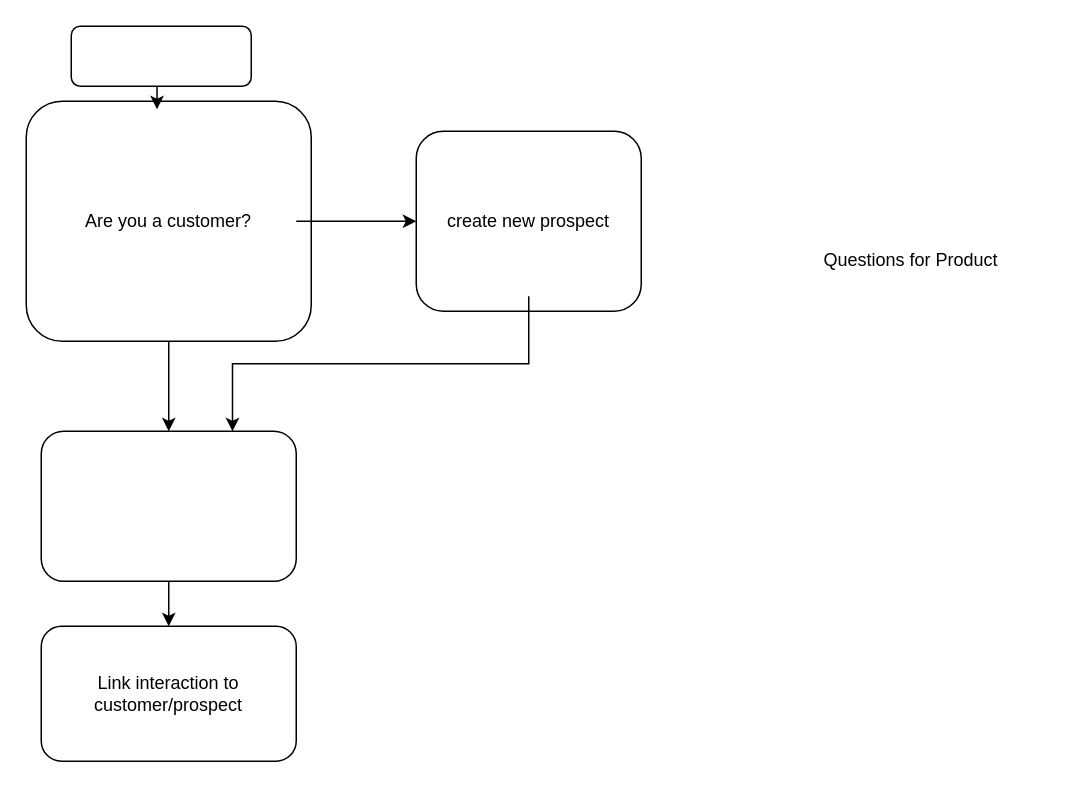
Some shapes in this 1088 by 788 pixel diagram are drawn without their labels. The shapes that lost their labels are listed below. From the top down, each one's centre as x and y in pixels, then its label:
point (160, 55): Inquiry
point (168, 505): Create Interaction
